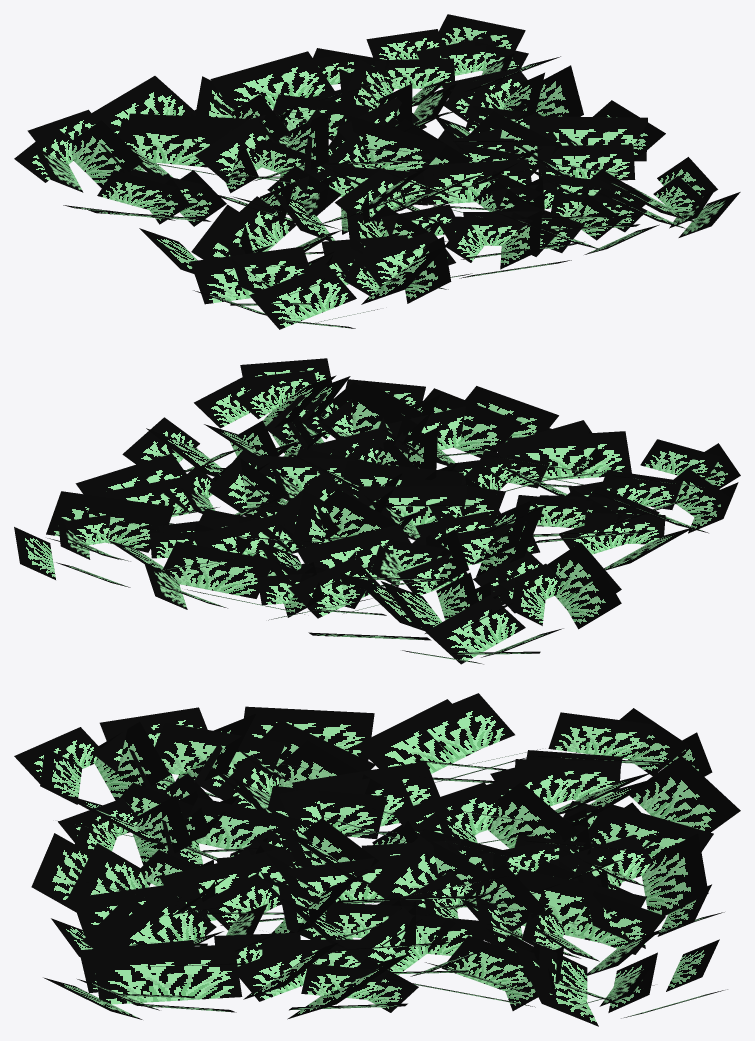
The model's file is Grass.fbx.
3 views of the same model, one above another, from view 1: azimuth 30°, elevation 25°; view 2: azimuth 150°, elevation 25°; view 3: azimuth 270°, elevation 25° (orthographic). The views are drawn at different scales.
Visible parts, largest first — view 1: Plane.060; view 2: Plane.060; view 3: Plane.060.
Part boxes in pixels (bbox=[...]): Plane.060: bbox=[14, 14, 740, 329]; Plane.060: bbox=[14, 358, 740, 664]; Plane.060: bbox=[14, 693, 740, 1026].
Size of the model in its own units: 532 by 22.28 by 519.
